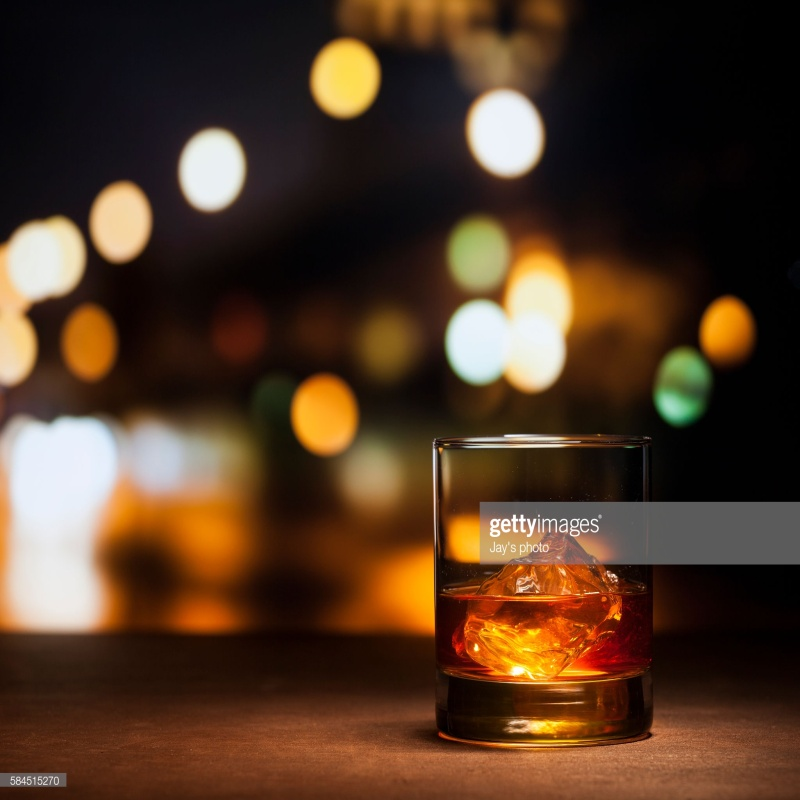whiskey: (422, 427, 682, 750)
